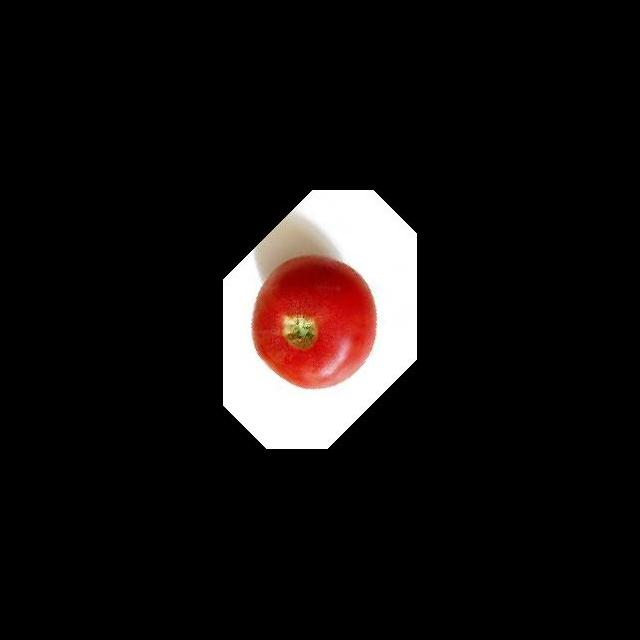tomato: (258, 253, 376, 389)
